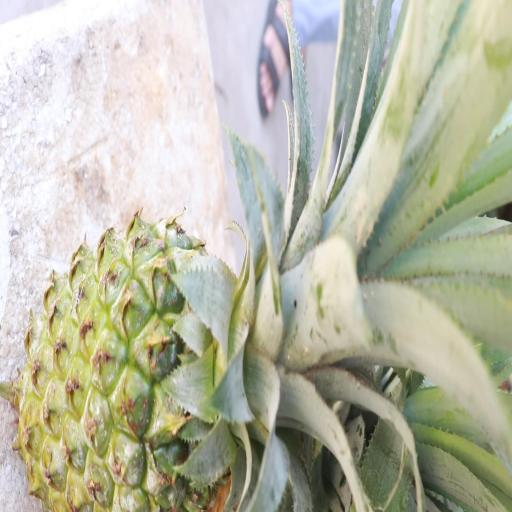------------------------------: (25, 228, 287, 510)
